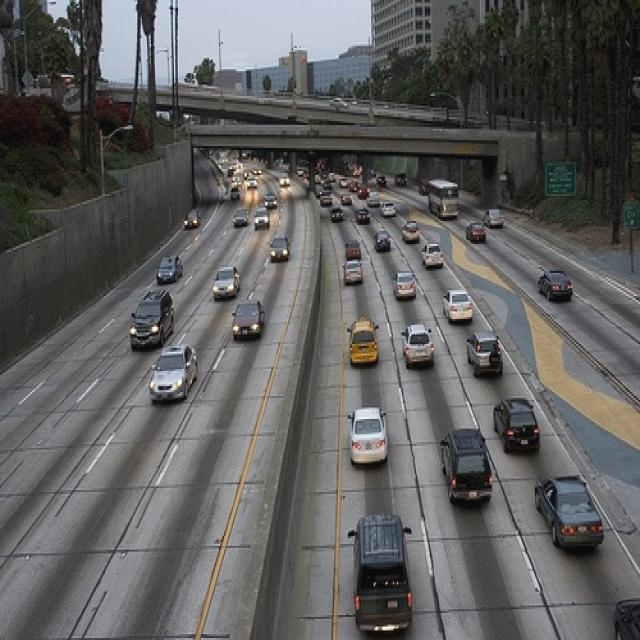Carro Azul Escuro: (156, 254, 184, 287), (371, 228, 395, 254)
Carro Branco: (346, 402, 391, 474), (438, 282, 475, 322)
Carro Prata: (147, 341, 201, 404), (463, 328, 507, 386), (398, 325, 436, 369), (208, 262, 245, 304), (393, 269, 417, 308), (419, 242, 444, 272), (343, 256, 364, 286)
Carro Preto: (348, 511, 418, 638), (532, 467, 606, 559), (438, 426, 496, 511), (485, 390, 539, 459), (127, 287, 178, 349), (228, 298, 266, 344), (535, 268, 573, 308), (268, 230, 290, 270), (178, 210, 202, 232), (353, 204, 373, 227), (329, 205, 344, 226), (233, 210, 250, 227)
Carro Vermelho: (465, 218, 487, 249)
Onibus: (426, 180, 461, 223)
Taxi: (345, 315, 382, 374)
Van Prata: (482, 206, 505, 230), (254, 206, 270, 230)
